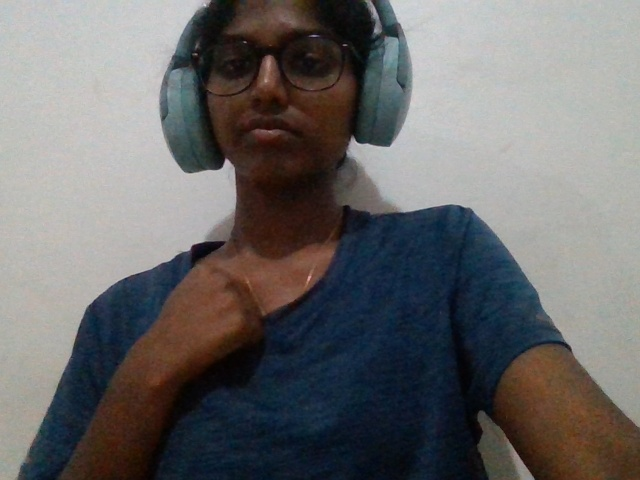Sorry: (96, 256, 316, 450)
